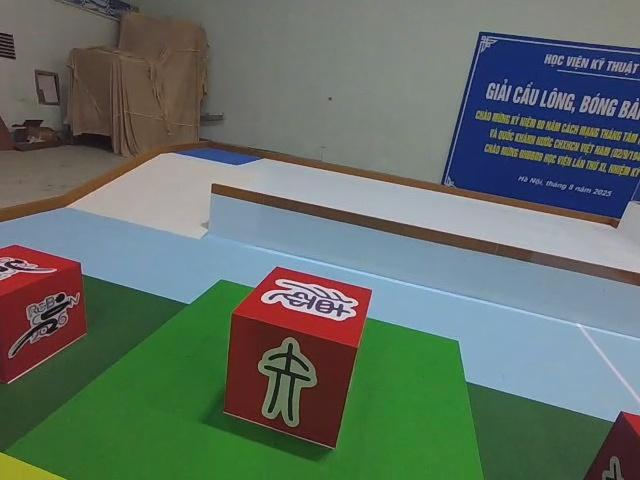R1: (0, 240, 89, 384)
R2 Fake: (224, 265, 374, 450)
